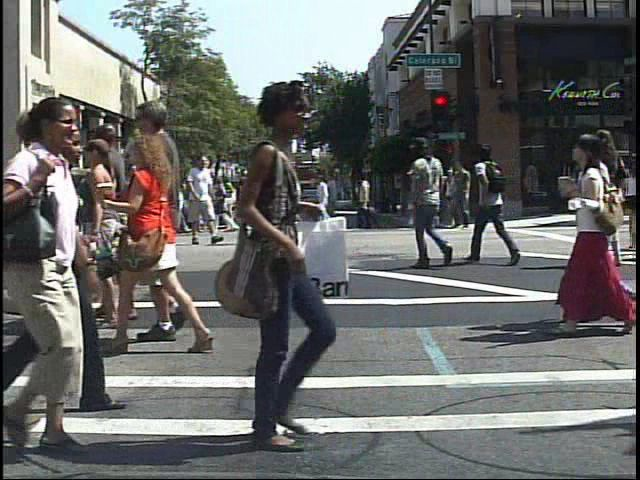person: (194, 77, 347, 460), (3, 91, 139, 466), (102, 129, 216, 354), (118, 96, 189, 350), (554, 121, 633, 347), (465, 138, 529, 271), (404, 129, 456, 275), (590, 127, 620, 342), (185, 152, 217, 249), (139, 159, 170, 239), (125, 161, 154, 244), (405, 161, 434, 233), (51, 183, 77, 245), (78, 164, 91, 247), (84, 183, 105, 224)
